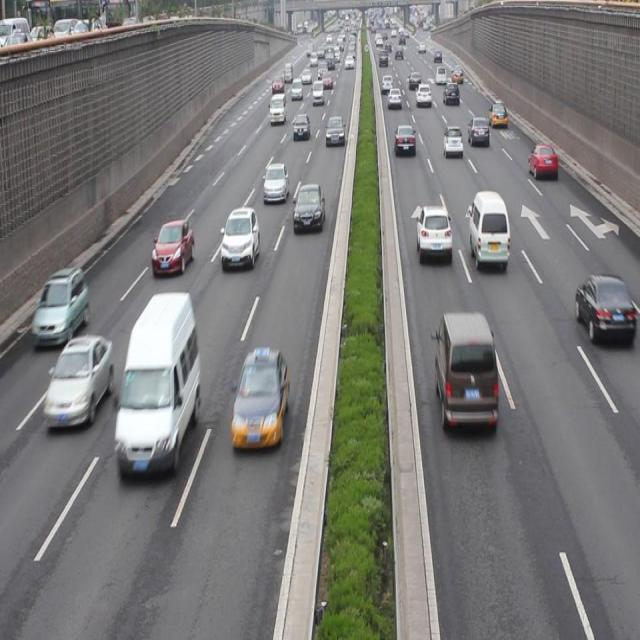car: (44, 332, 112, 432), (231, 348, 288, 446), (574, 273, 640, 346), (33, 267, 89, 346), (220, 206, 260, 267), (152, 218, 192, 276), (416, 206, 451, 261), (293, 182, 324, 228), (528, 142, 558, 180), (262, 161, 287, 202), (394, 123, 415, 158), (467, 116, 489, 147), (487, 98, 508, 130), (325, 114, 345, 147), (442, 126, 463, 154), (292, 112, 309, 140)
truck: (116, 290, 200, 474), (434, 311, 497, 430), (467, 187, 509, 268)
